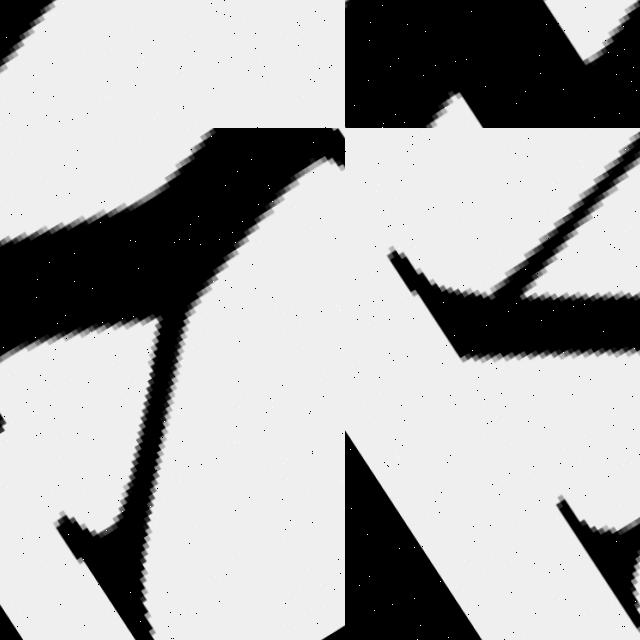H: (345, 0, 640, 128)
N: (345, 128, 640, 640)
T: (0, 0, 345, 128)
Y: (0, 128, 345, 640)
